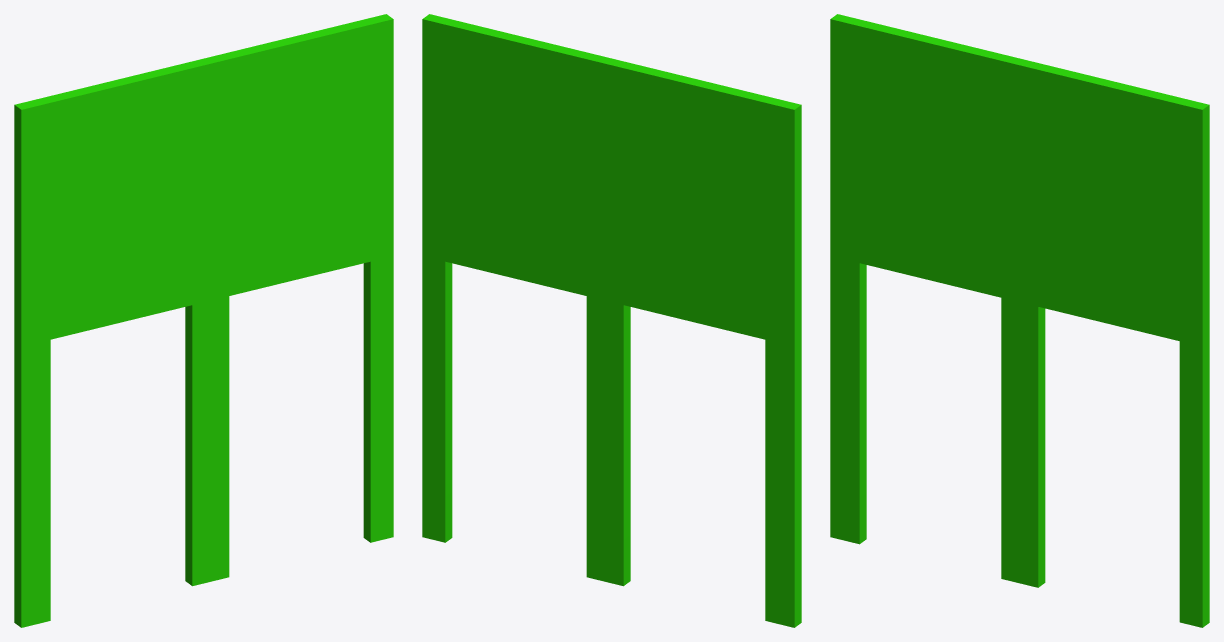
File: R_02_Wall_Int_02.fbx
3 views of the same model, side by side, from view 1: azimuth 30°, elevation 25°; view 2: azimuth 150°, elevation 25°; view 3: azimuth 330°, elevation 25° (orthographic).
Parts seen in each view (by area): view 1: R_02_Wall_Int_02; view 2: R_02_Wall_Int_02; view 3: R_02_Wall_Int_02.
Part boxes in pixels (x1,y1,x2,y2): R_02_Wall_Int_02: (14, 14, 393, 627); R_02_Wall_Int_02: (422, 14, 801, 627); R_02_Wall_Int_02: (830, 14, 1209, 627).
Bounding box in the file's own units: 303 × 403 × 9.88.
